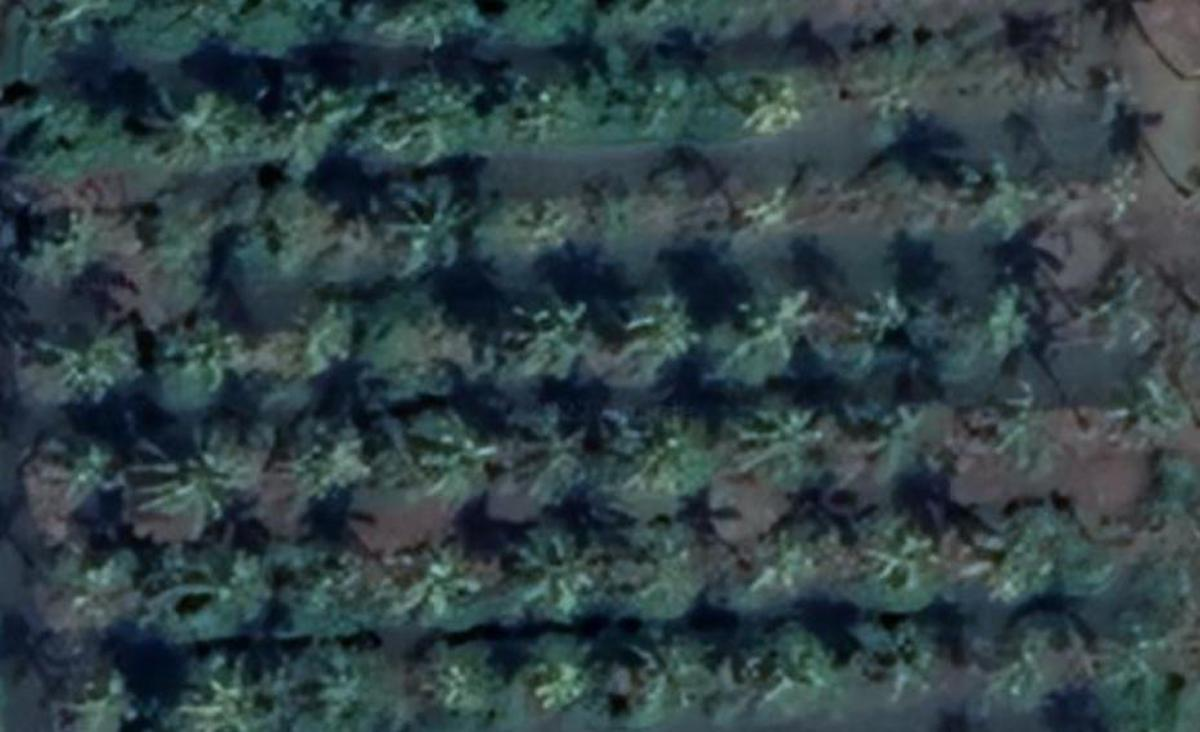coconut: (352, 268, 494, 401), (435, 125, 577, 256), (255, 222, 396, 352), (463, 437, 599, 570), (570, 136, 683, 260), (516, 293, 629, 413), (738, 36, 847, 156), (590, 446, 711, 553), (29, 15, 140, 131), (334, 524, 449, 627), (28, 446, 140, 551), (569, 604, 687, 702), (99, 219, 231, 305), (174, 54, 281, 152), (304, 114, 397, 222), (359, 409, 459, 509), (616, 11, 719, 107), (193, 497, 293, 587), (0, 311, 69, 424), (94, 355, 176, 450), (492, 0, 587, 82), (229, 379, 334, 451)
